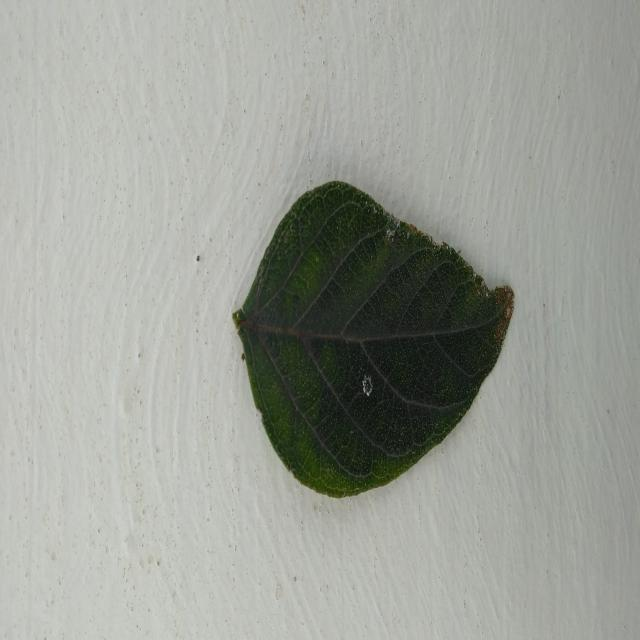Parijatha: (232, 182, 514, 498)
